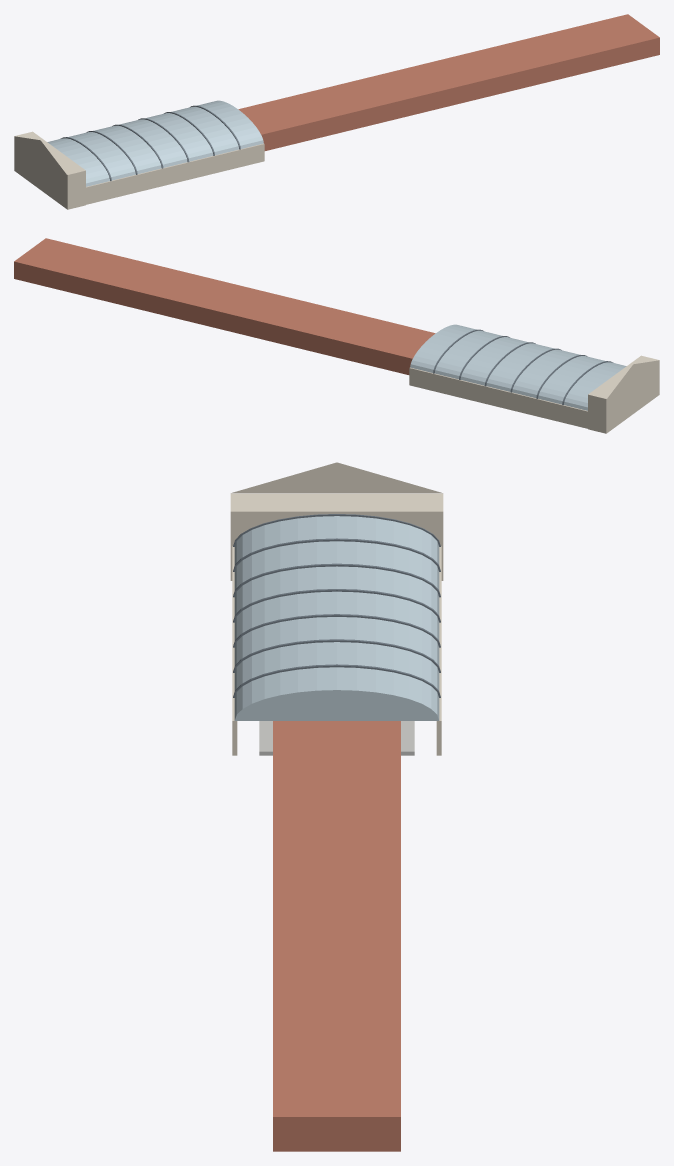
File: terminal_fenchurch-street.glb
3 renders of one model, top to bottom at view 1: azimuth 30°, elevation 25°; view 2: azimuth 150°, elevation 25°; view 3: azimuth 270°, elevation 25°, orthographic. The views are drawn at different scales.
Parts seen in each view (by area): view 1: fenchurch-street; view 2: fenchurch-street; view 3: fenchurch-street.
Boxes of the visible parts, x1=… form: fenchurch-street: x1=14, y1=14, x2=659, y2=209; fenchurch-street: x1=14, y1=238, x2=659, y2=433; fenchurch-street: x1=230, y1=462, x2=443, y2=1151.
Bounding box in the file's own units: 327 × 26 × 50.
